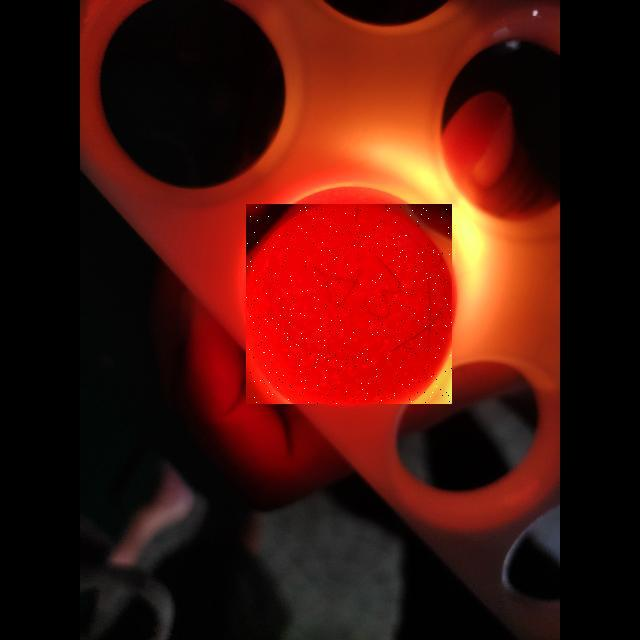Infertile: (246, 204, 452, 404)
